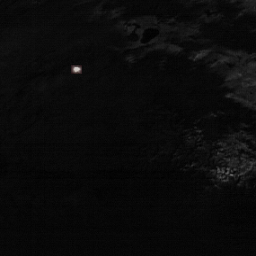Target: (72, 65, 82, 73)
